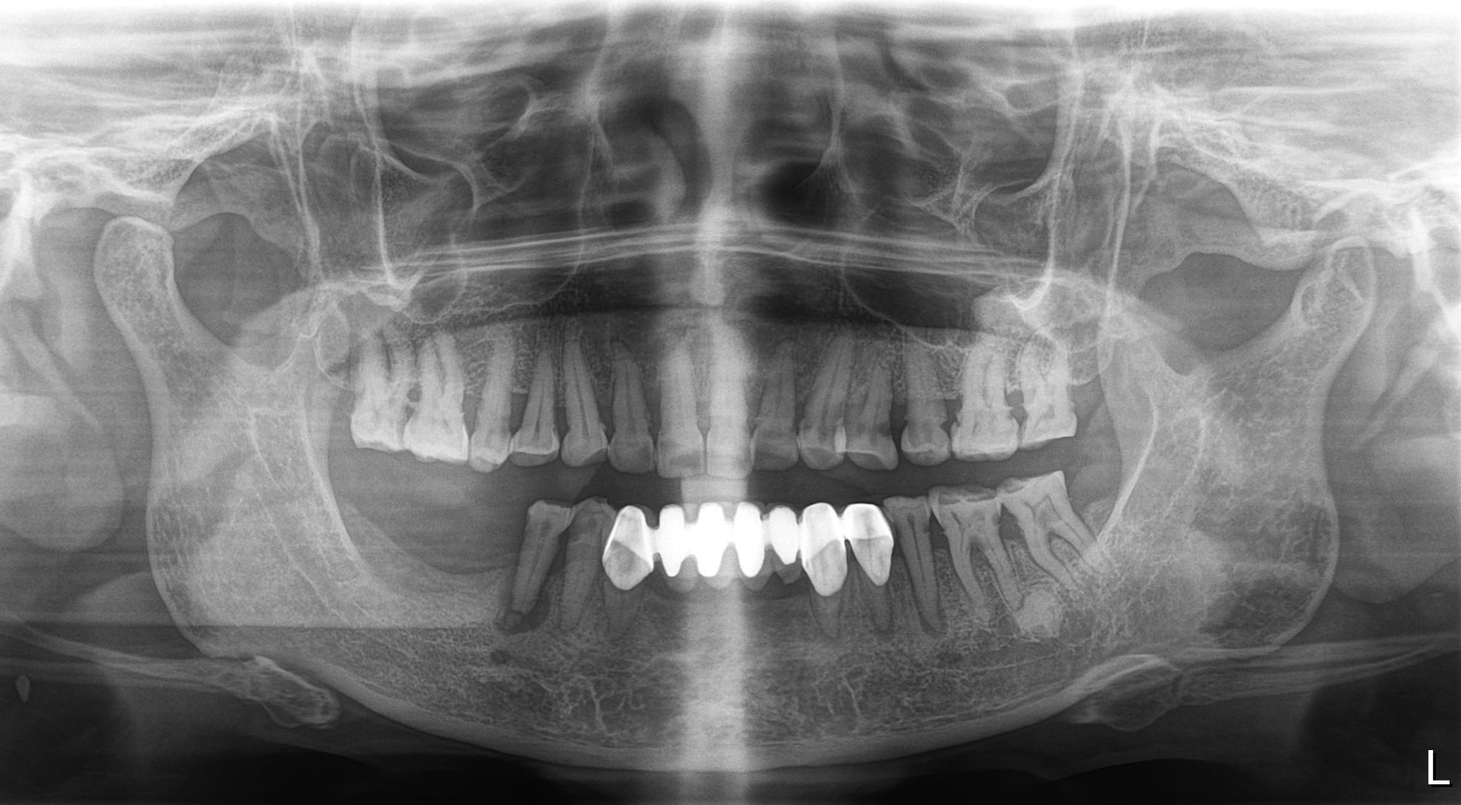Missing Tooth: (403, 472, 464, 625), (341, 469, 400, 616), (471, 474, 521, 619)
Periapical Lesion: (819, 558, 958, 663), (487, 590, 573, 658)
Periodontal Pocket: (956, 513, 1067, 616)
